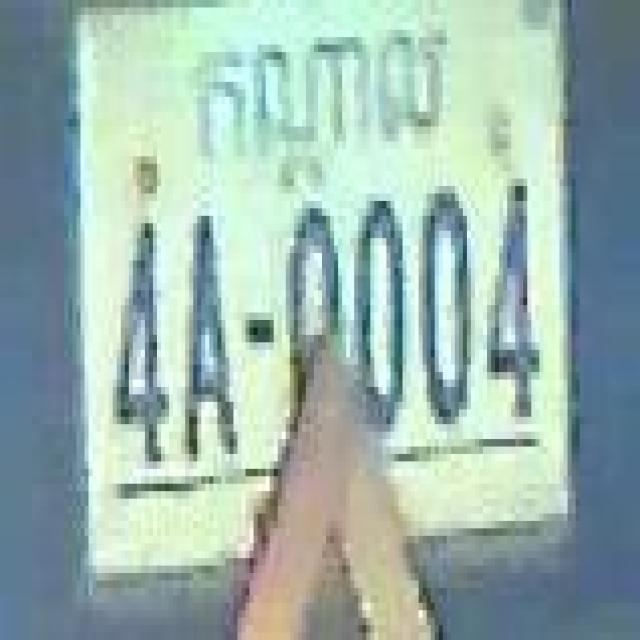Kandal: (185, 22, 445, 196)
